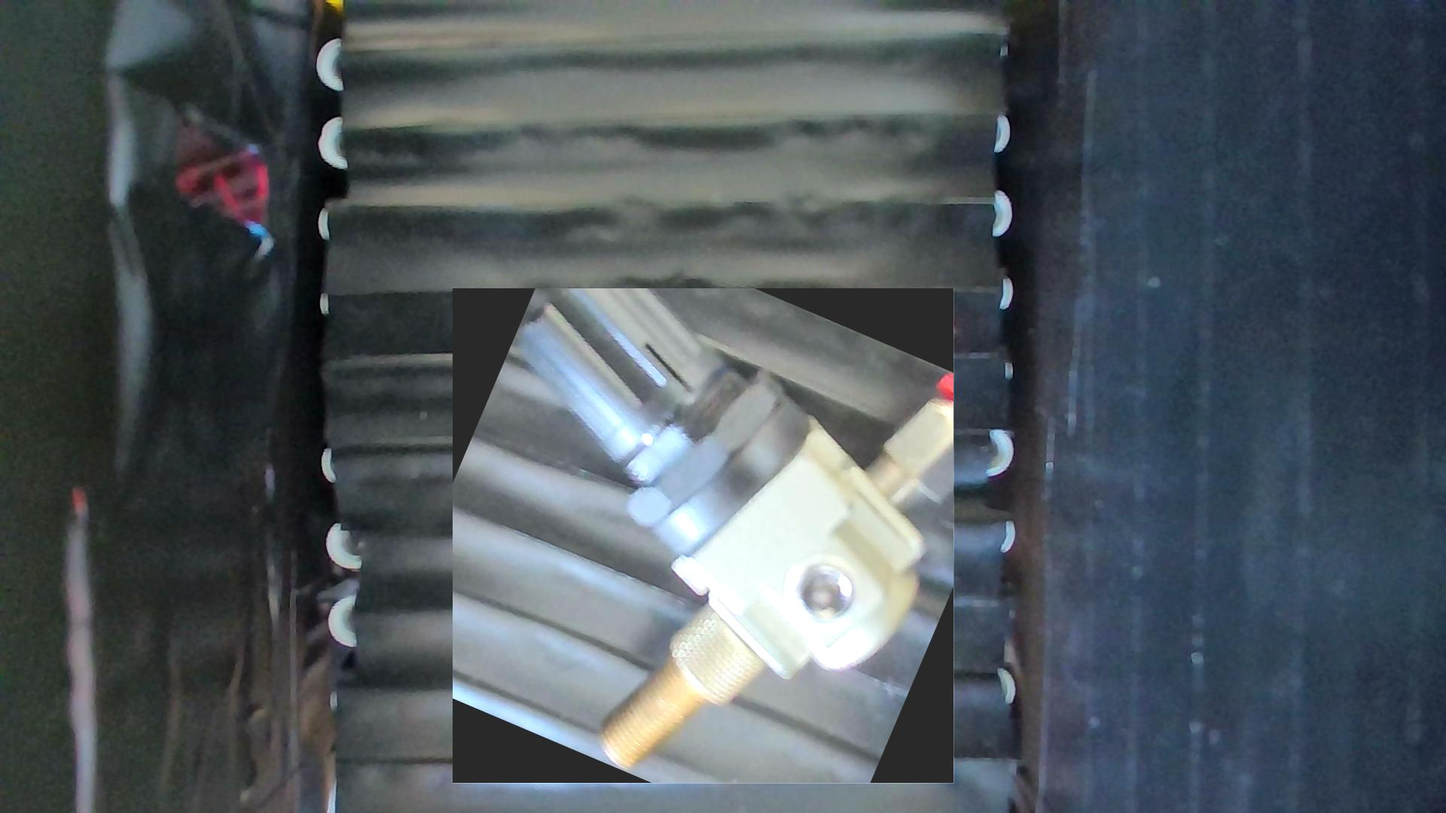regulator: (453, 289, 955, 784)
